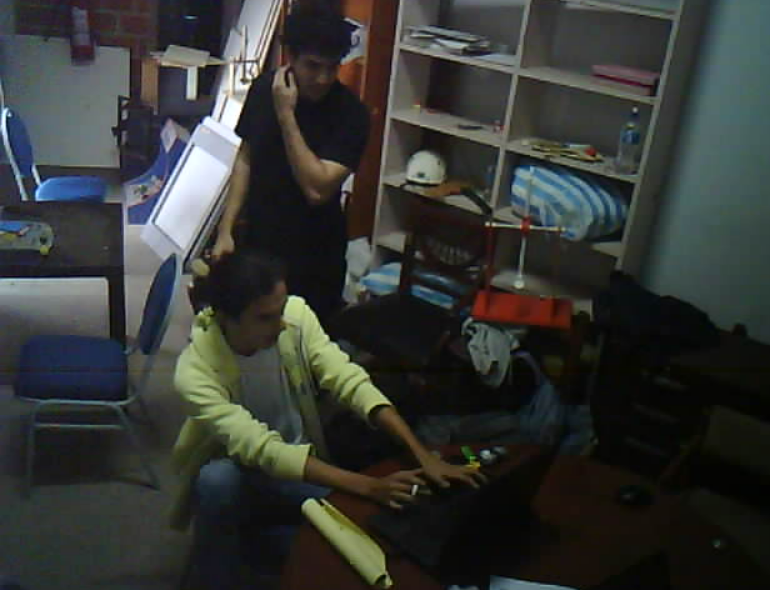person: (142, 246, 498, 590), (198, 0, 375, 337)
